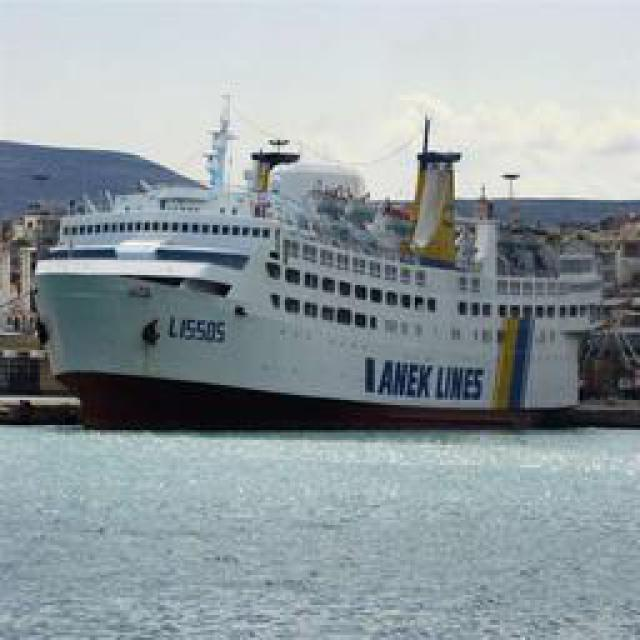Ship: (39, 88, 639, 426)
